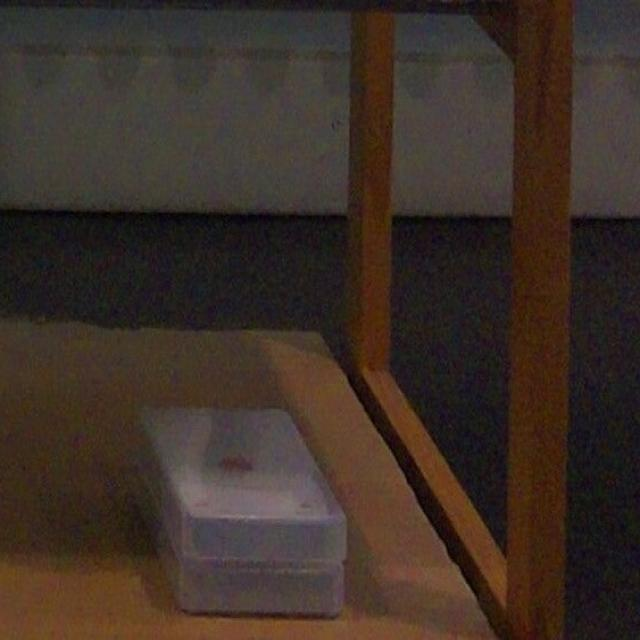Jasskarte: (139, 404, 347, 561), (131, 467, 344, 615)
